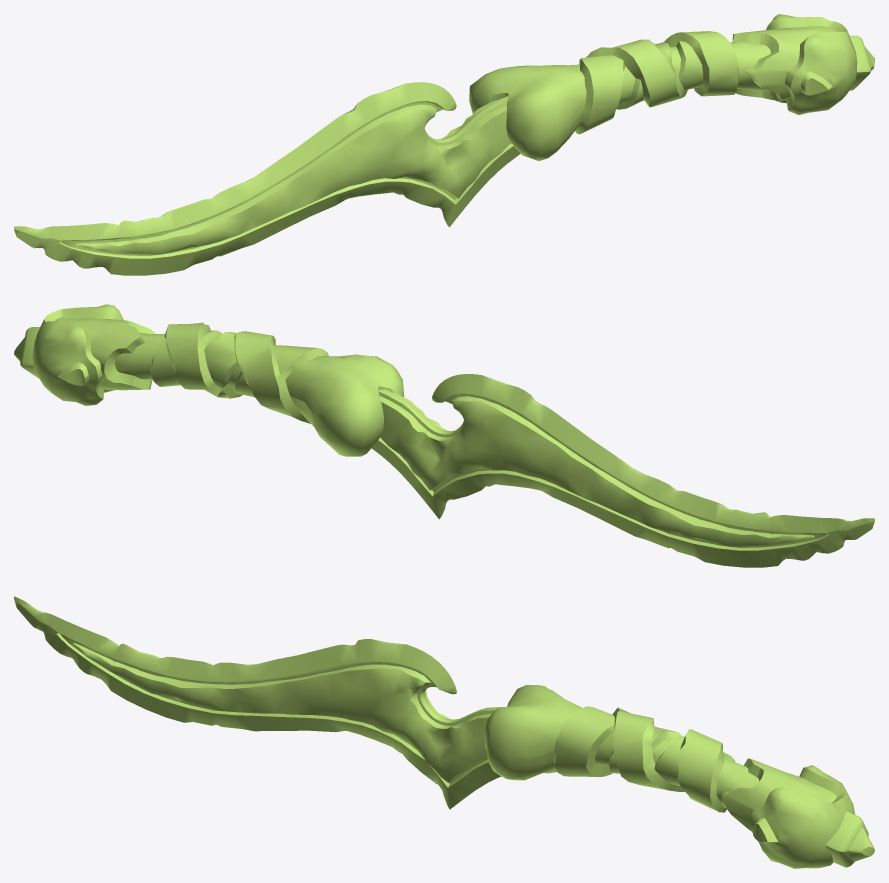
Rendered from SM_Undead_Dagger.fbx.
The picture shows the model from 3 angles, top to bottom: view 1: azimuth 30°, elevation 25°; view 2: azimuth 150°, elevation 25°; view 3: azimuth 330°, elevation 25°; orthographic projection.
Visible parts, largest first — view 1: SM_Undead_Dagger; view 2: SM_Undead_Dagger; view 3: SM_Undead_Dagger.
Boxes of the visible parts, bbox=[...] form: SM_Undead_Dagger: bbox=[14, 14, 874, 275]; SM_Undead_Dagger: bbox=[14, 304, 874, 567]; SM_Undead_Dagger: bbox=[14, 596, 874, 868].
Size of the model in its own units: 0.5648 by 0.0971 by 0.0719.
